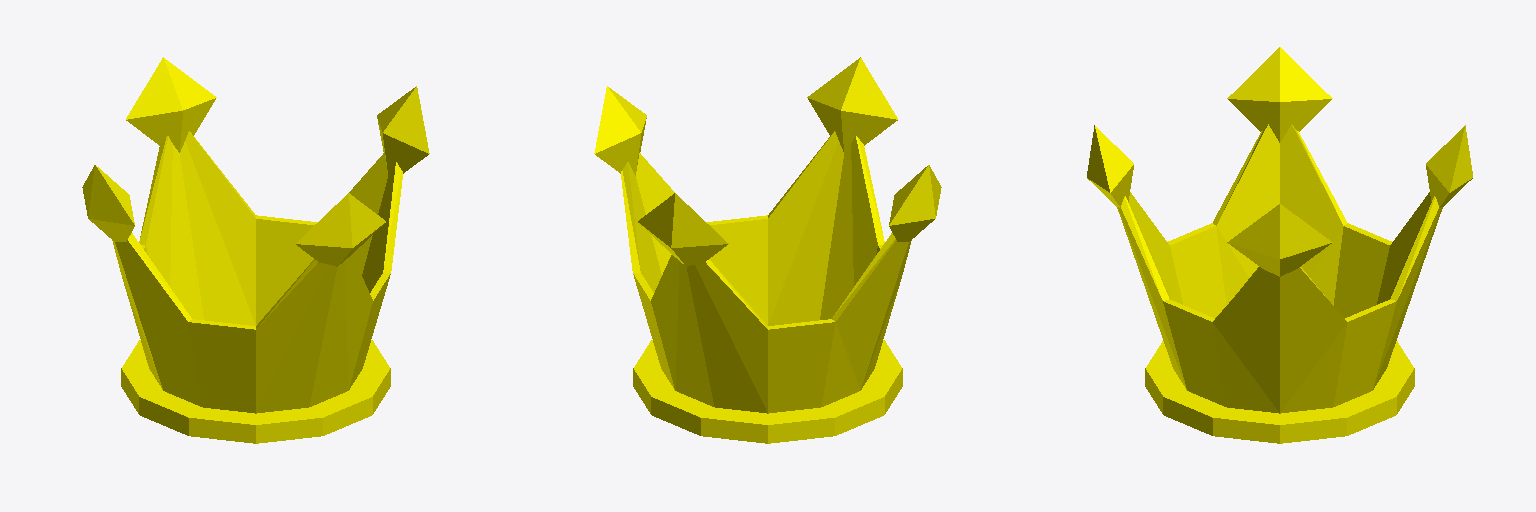
Rendered from crown.obj.
The picture shows the model from 3 angles: view 1: azimuth 30°, elevation 25°; view 2: azimuth 150°, elevation 25°; view 3: azimuth 270°, elevation 25°; orthographic projection.
Visible parts, largest first — view 1: crown-model; view 2: crown-model; view 3: crown-model.
Part boxes in pixels (x1,y1,x2,y2): crown-model: (82, 57, 429, 443); crown-model: (594, 57, 941, 443); crown-model: (1087, 47, 1472, 443).
Bounding box in the file's own units: 252 × 188 × 252.